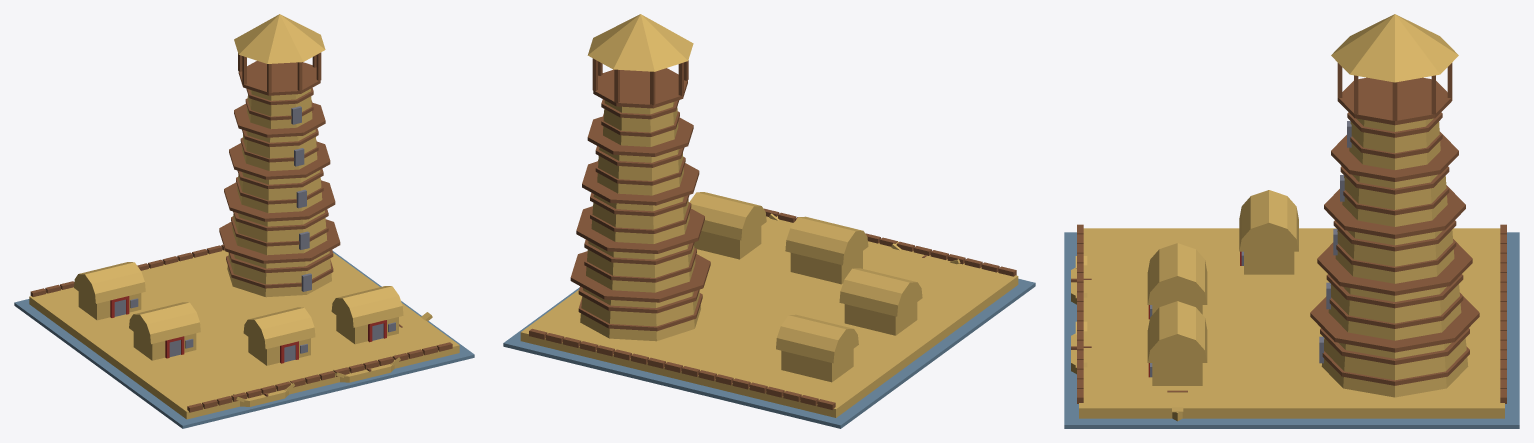
Rendered from house-2x2-5f-totora-a.glb.
3 views of the same model, side by side, from view 1: azimuth 30°, elevation 25°; view 2: azimuth 150°, elevation 25°; view 3: azimuth 270°, elevation 25° (orthographic). The views are drawn at different scales.
Visible parts, largest first — view 1: house-2x2-5f-totora-a; view 2: house-2x2-5f-totora-a; view 3: house-2x2-5f-totora-a.
Part boxes in pixels (<box>): house-2x2-5f-totora-a: <box>14,14,474,428</box>; house-2x2-5f-totora-a: <box>503,14,1035,428</box>; house-2x2-5f-totora-a: <box>1064,14,1519,428</box>.
Size of the model in its own units: 1.99 by 1.77 by 1.99.
Materials: 1 (1 with a texture image).
